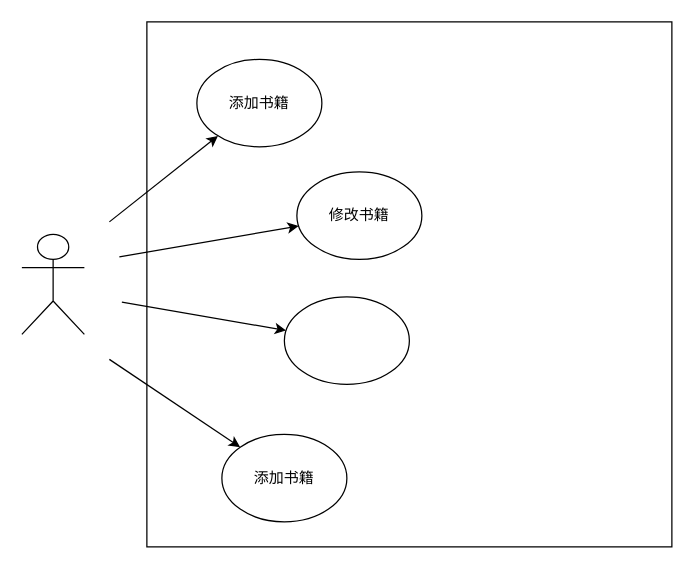
This 694x569 diagram has some shape labels left out. Here are the shapes that lost their labels. From the top down, the centre of each, then its label:
pixel 52 283: 管理员
pixel 346 340: 删除书籍
